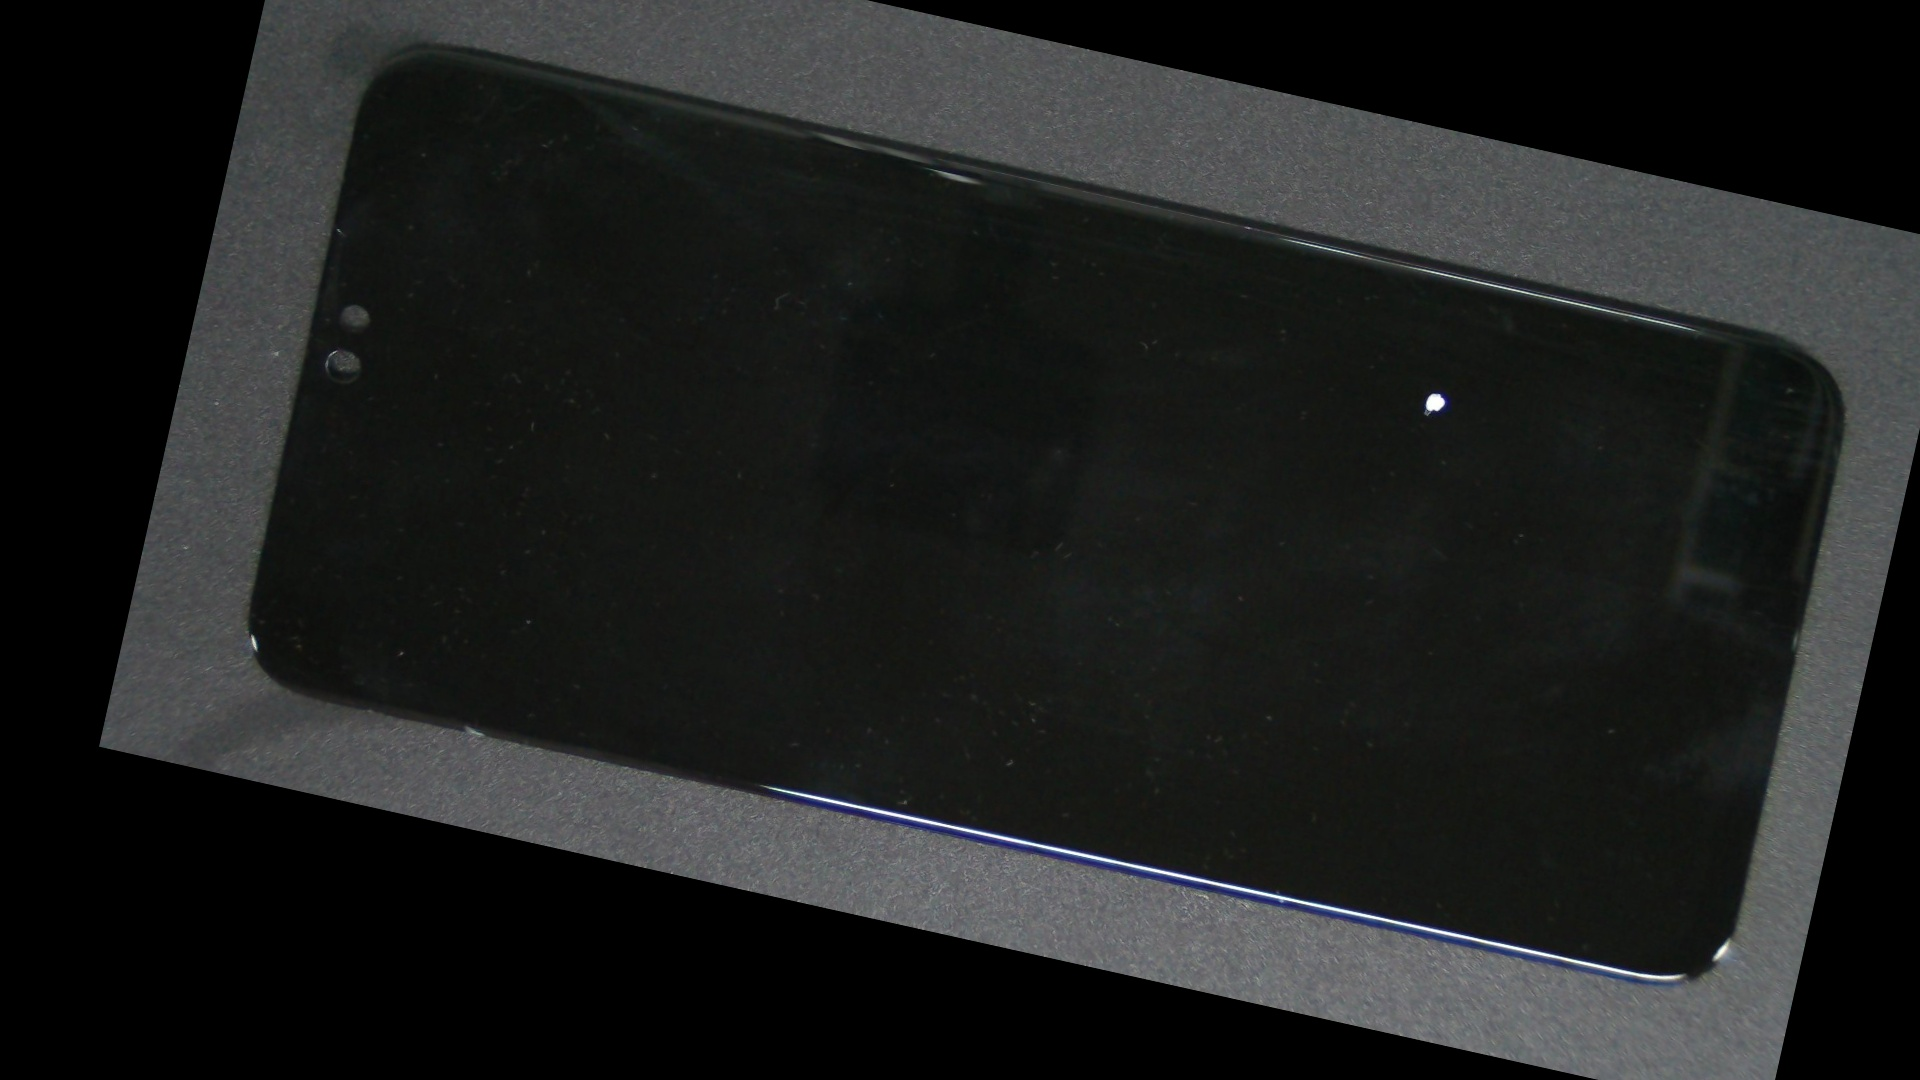oil: (808, 132, 1920, 624)
